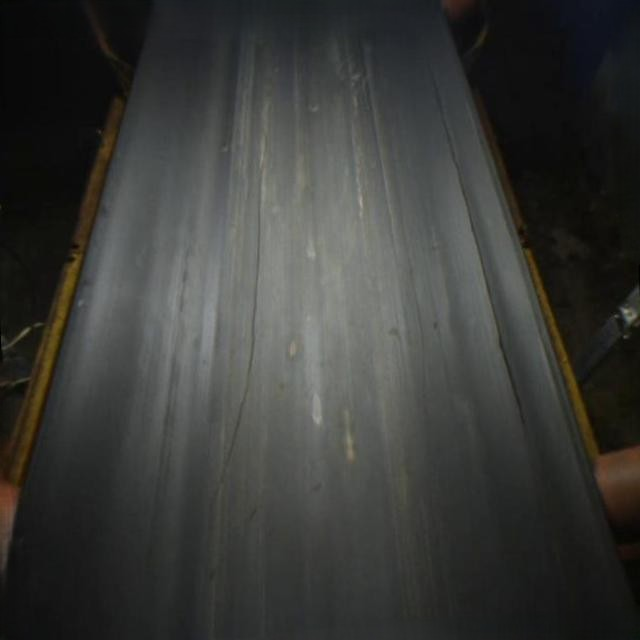Tear: (425, 71, 536, 438), (204, 171, 276, 503)
